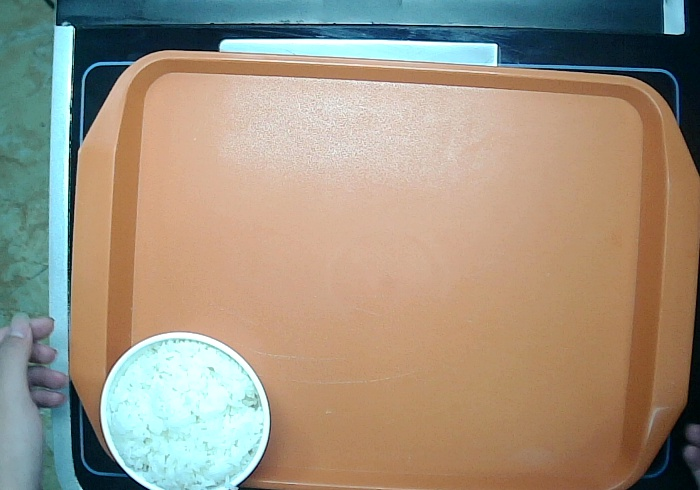HZYJPL-Fan_Wan: (78, 308, 283, 490)
